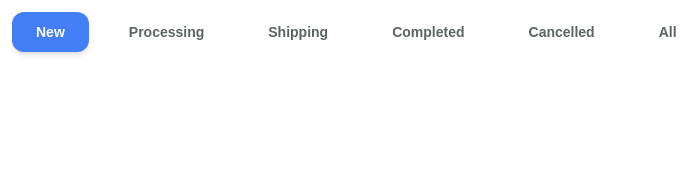
Test case: OrderTabs › updates URL and resets page to 1 when a tab is clicked
Click the button "Processing": coordinates (167, 32) [105, 12, 228, 52]
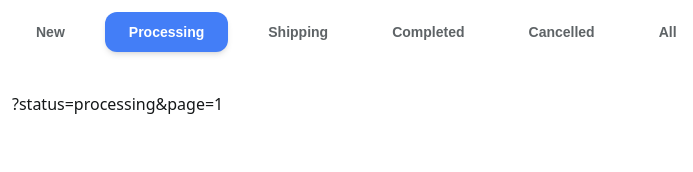
Expected: the text with test id "location-display" shows "status=processing", [12, 93, 223, 115]
Expected: the text with test id "location-display" shows "page=1", [12, 93, 223, 115]
